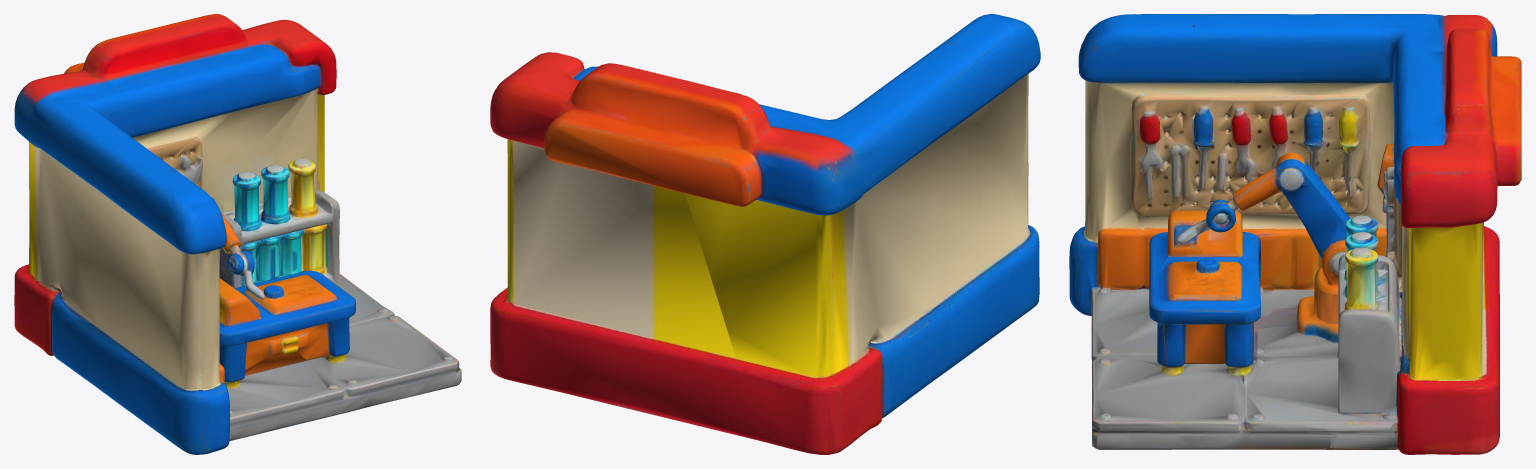
The model's file is robolab.glb.
The picture shows the model from 3 angles, left to right: view 1: azimuth 30°, elevation 25°; view 2: azimuth 150°, elevation 25°; view 3: azimuth 270°, elevation 25°; orthographic projection. The views are drawn at different scales.
Parts seen in each view (by area): view 1: Mesh_0; view 2: Mesh_0; view 3: Mesh_0.
Boxes of the visible parts, x1,y1,x2,y2 form: Mesh_0: [14, 14, 461, 454]; Mesh_0: [490, 14, 1040, 454]; Mesh_0: [1069, 14, 1521, 454].
Size of the model in its own units: 1.66 by 1.47 by 1.91.
Materials: 1 (1 with a texture image).
